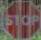Stop: (0, 3, 40, 36)
